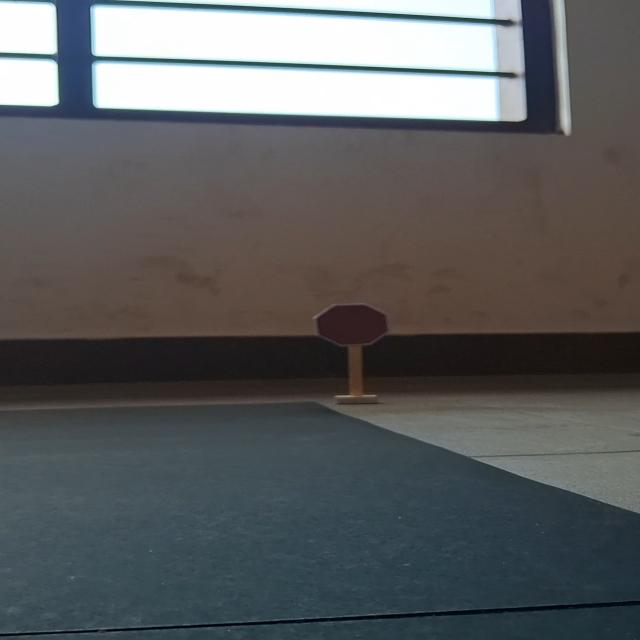Stop: (311, 303, 391, 347)
